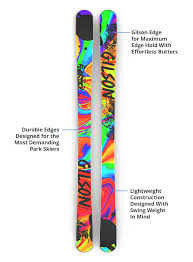skis: (72, 10, 119, 252)
